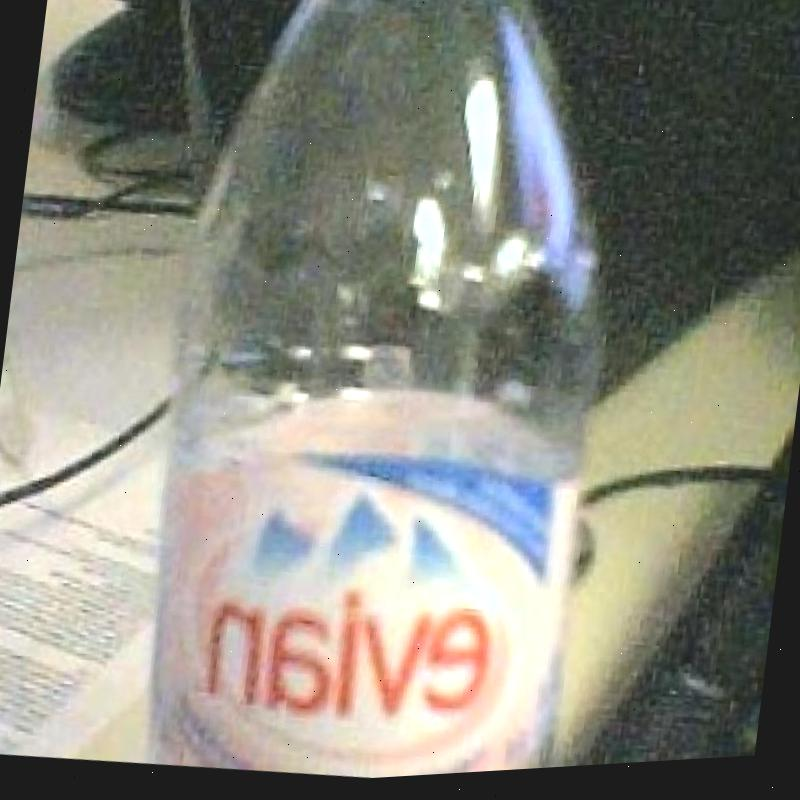botella: (129, 0, 646, 794)
